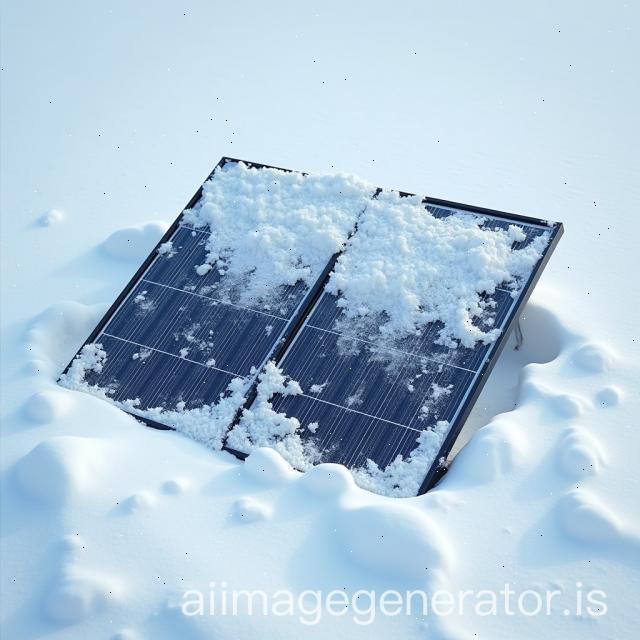Anomaly Solar Panel: (227, 188, 562, 495), (54, 157, 382, 443)
Snow: (285, 187, 567, 427), (159, 158, 381, 307), (222, 364, 451, 497), (58, 319, 256, 443), (161, 307, 236, 375), (340, 380, 370, 417), (131, 289, 160, 317), (154, 236, 182, 262), (128, 342, 153, 366), (308, 382, 330, 396), (262, 323, 279, 336), (175, 348, 192, 360), (307, 420, 318, 436)
